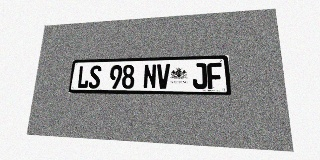8: (121, 65, 135, 89)
9: (109, 65, 122, 89)
F: (207, 63, 223, 89)
J: (192, 63, 207, 89)
L: (77, 66, 90, 88)
N: (143, 64, 157, 89)
S: (88, 65, 102, 88)
V: (156, 64, 170, 89)
